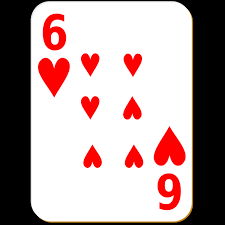six of hearts: (35, 9, 188, 216)
